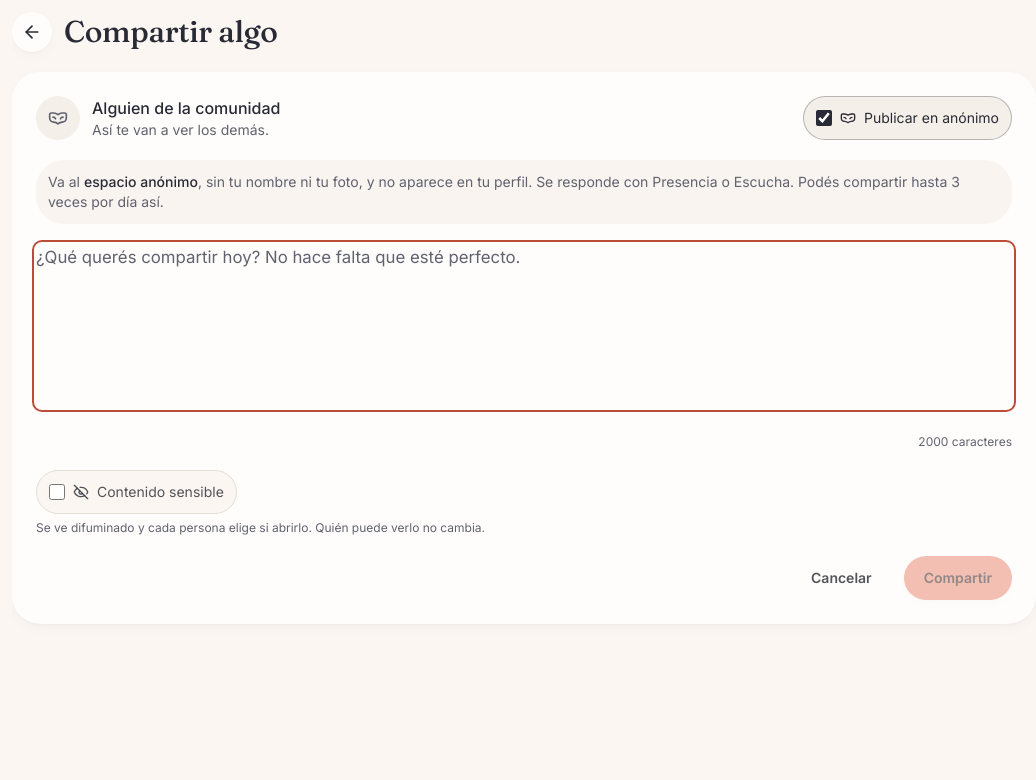
Scenario: anonymous posting › explains the daily limit and keeps the text
Type "cuarto del día" into the text box with placeholder "¿Qué querés compartir hoy? No hace falta que esté perfecto." at (524, 326), box [36,244,1012,408]
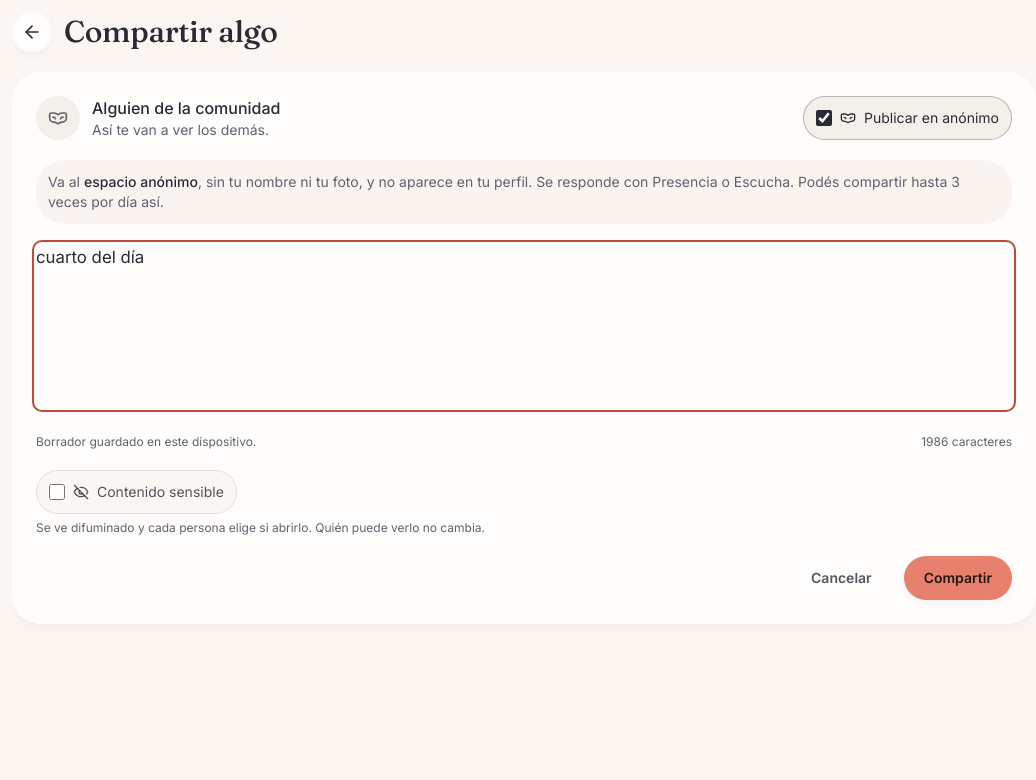
Click the button "Compartir" at (958, 578), box [904,556,1012,600]
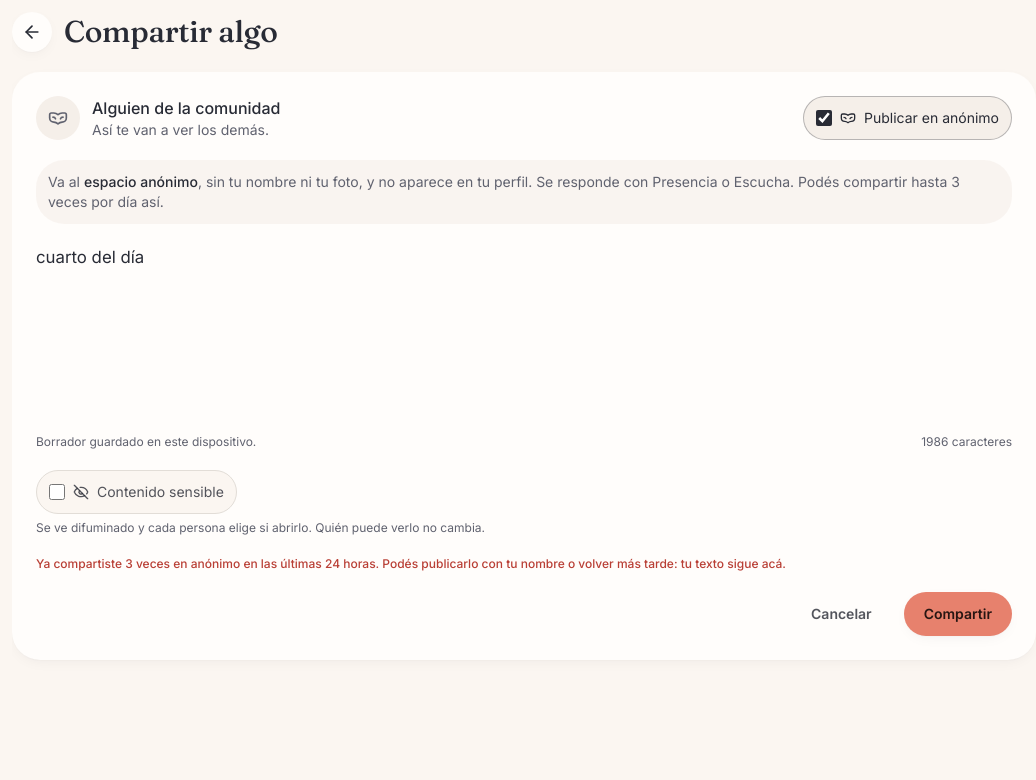
Check: the text "Ya compartiste 3 veces en anónimo" is shown, box [36,556,786,571]
